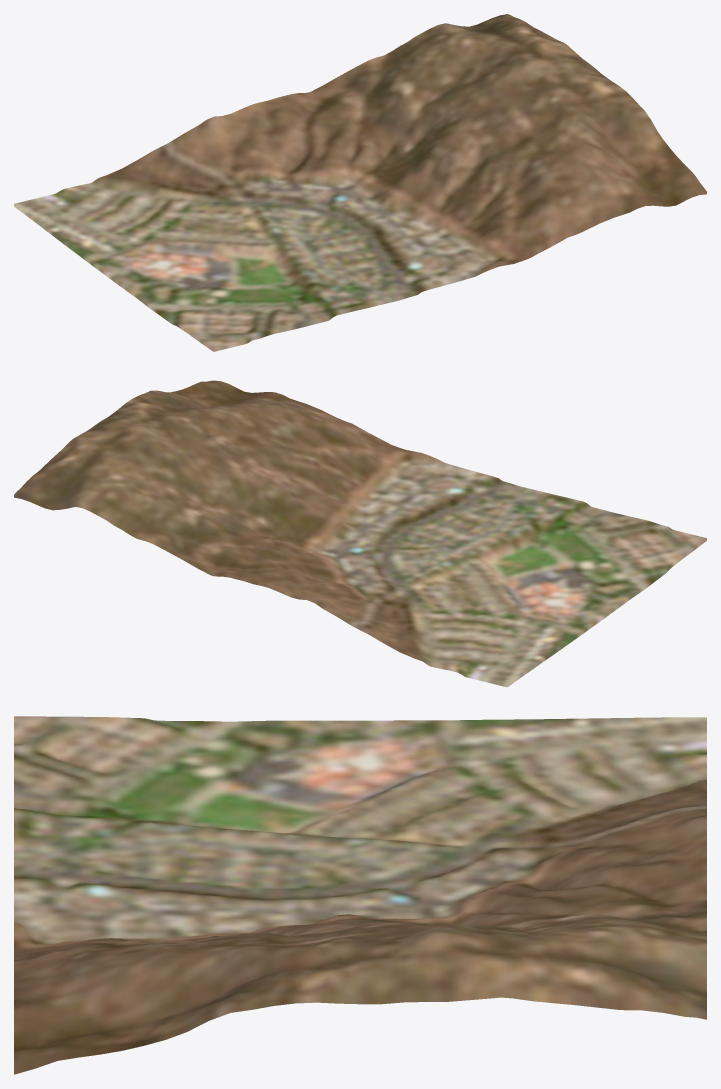
The model's file is terrain_r2_c5_lod1.glb.
The picture shows the model from 3 angles, top to bottom: view 1: azimuth 30°, elevation 25°; view 2: azimuth 150°, elevation 25°; view 3: azimuth 270°, elevation 25°; orthographic projection. The views are drawn at different scales.
Parts seen in each view (by area): view 1: terrain_r2_c5_lod1; view 2: terrain_r2_c5_lod1; view 3: terrain_r2_c5_lod1.
Boxes of the visible parts, box(x1,y1,x2,y2) form: terrain_r2_c5_lod1: box(14, 14, 706, 351); terrain_r2_c5_lod1: box(14, 380, 706, 687); terrain_r2_c5_lod1: box(14, 716, 706, 1074).
Size of the model in its own units: 1125 by 207 by 787.
Materials: 1 (1 with a texture image).
